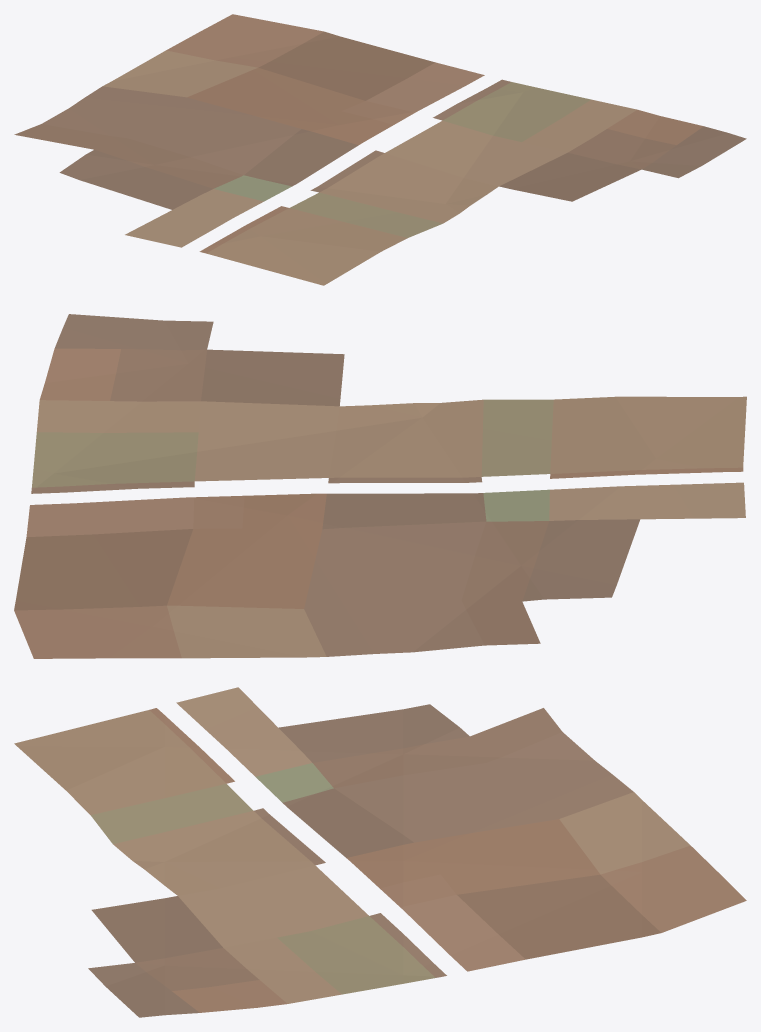
The model's file is farm_33_38_soil.glb.
The picture shows the model from 3 angles, top to bottom: view 1: azimuth 30°, elevation 25°; view 2: azimuth 150°, elevation 25°; view 3: azimuth 270°, elevation 25°; orthographic projection. The views are drawn at different scales.
Visible parts, largest first — view 1: geometry_0; view 2: geometry_0; view 3: geometry_0.
Part boxes in pixels (x1,y1,x2,y2): geometry_0: [14, 14, 746, 285]; geometry_0: [14, 314, 746, 658]; geometry_0: [14, 687, 746, 1017].
Bounding box in the file's own units: 251 × 12.59 × 246.
